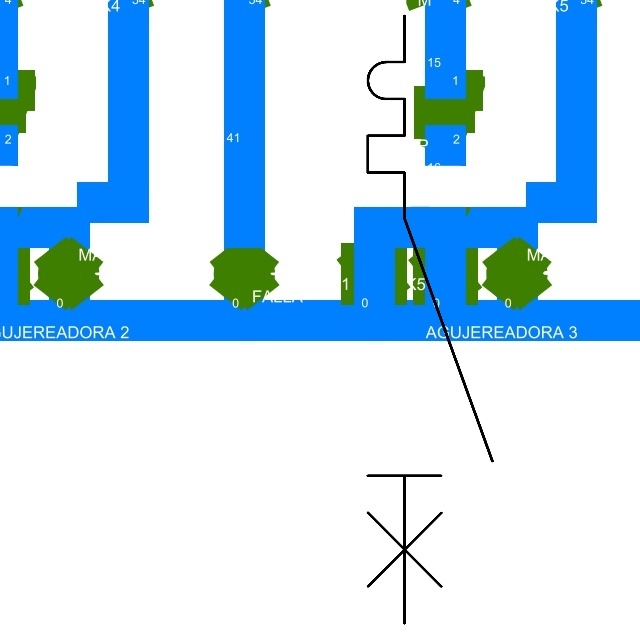interruptor_termomagnetico: (352, 0, 508, 639)
